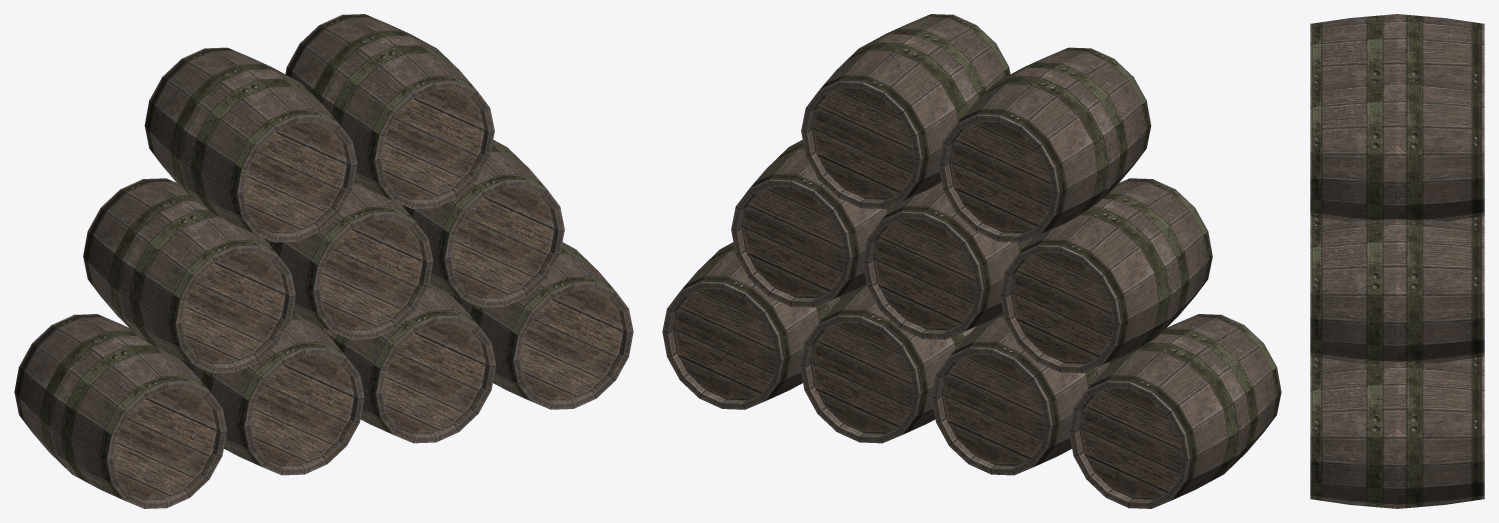
The model's file is barrel_4_012.obj.
3 renders of one model, left to right at view 1: azimuth 30°, elevation 25°; view 2: azimuth 150°, elevation 25°; view 3: azimuth 270°, elevation 25°, orthographic. The views are drawn at different scales.
Parts seen in each view (by area): view 1: Circle.000_Circle.021; view 2: Circle.000_Circle.021; view 3: Circle.000_Circle.021.
Boxes of the visible parts, left/top/right/bottom form: Circle.000_Circle.021: left=14, top=14, right=633, bottom=508; Circle.000_Circle.021: left=662, top=14, right=1281, bottom=508; Circle.000_Circle.021: left=1310, top=14, right=1484, bottom=508.
Bounding box in the file's own units: 9.11 × 6.06 × 2.69.
